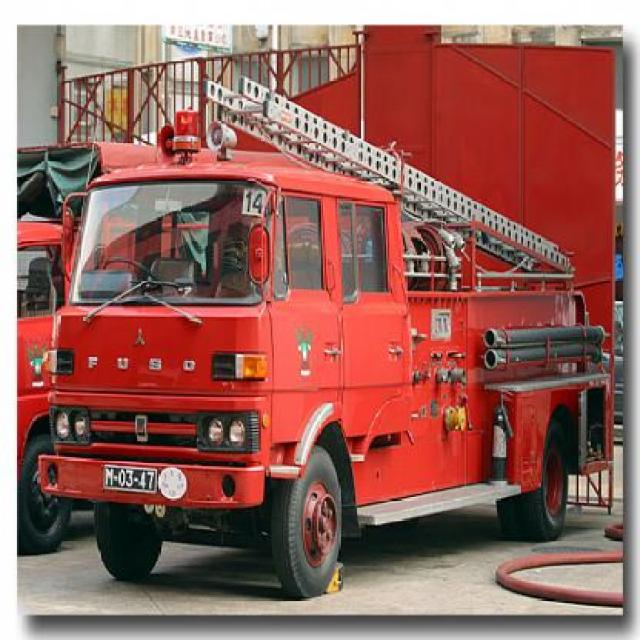truck: (37, 79, 614, 602)
